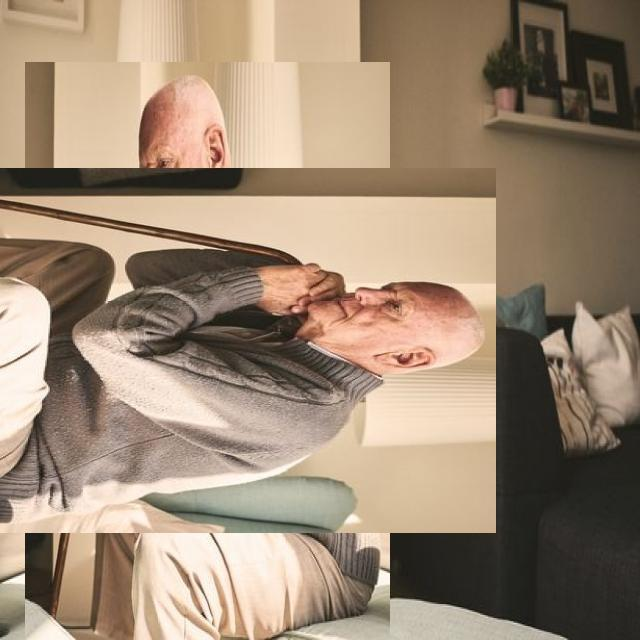NotFall: (0, 162, 419, 514)
